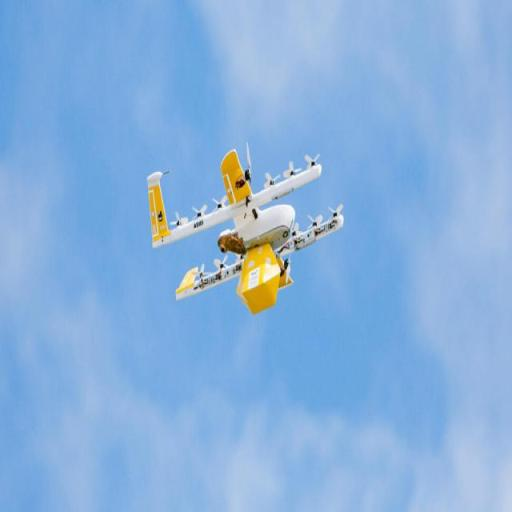uav: (146, 134, 348, 318)
